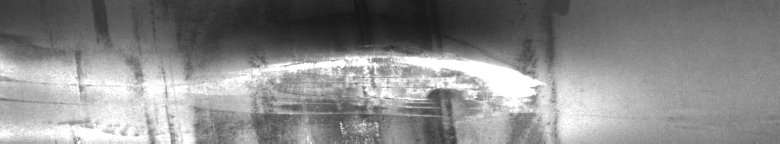ke: (252, 44, 534, 136)
